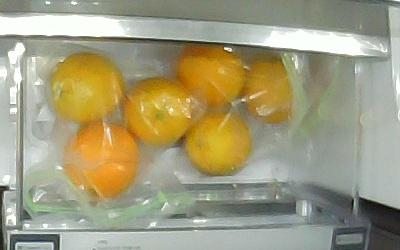orange_vinyl: (63, 123, 137, 198), (51, 53, 124, 122), (123, 78, 189, 144), (178, 43, 243, 107), (185, 113, 250, 174), (244, 54, 292, 123)
